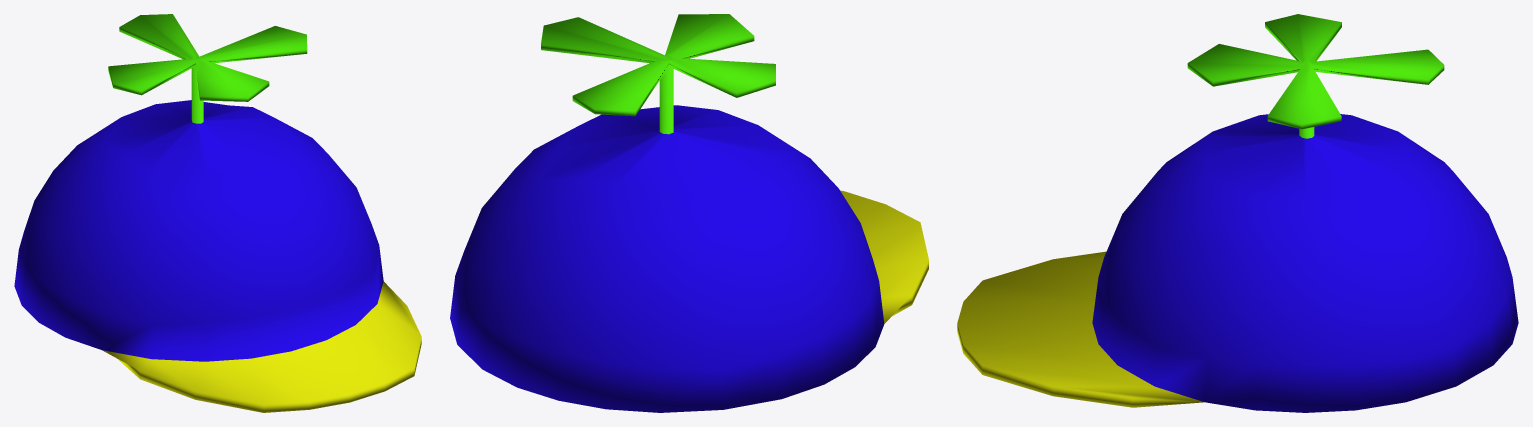
The model's file is hat.fbx.
3 views of the same model, side by side, from view 1: azimuth 30°, elevation 25°; view 2: azimuth 150°, elevation 25°; view 3: azimuth 270°, elevation 25° (orthographic). The views are drawn at different scales.
Visible parts, largest first — view 1: Fun Hat; view 2: Fun Hat; view 3: Fun Hat.
Boxes of the visible parts, x1,y1,x2,y2 form: Fun Hat: [14, 14, 421, 412]; Fun Hat: [450, 14, 928, 412]; Fun Hat: [957, 14, 1518, 412].
Bounding box in the file's own units: 200 × 139 × 263.
